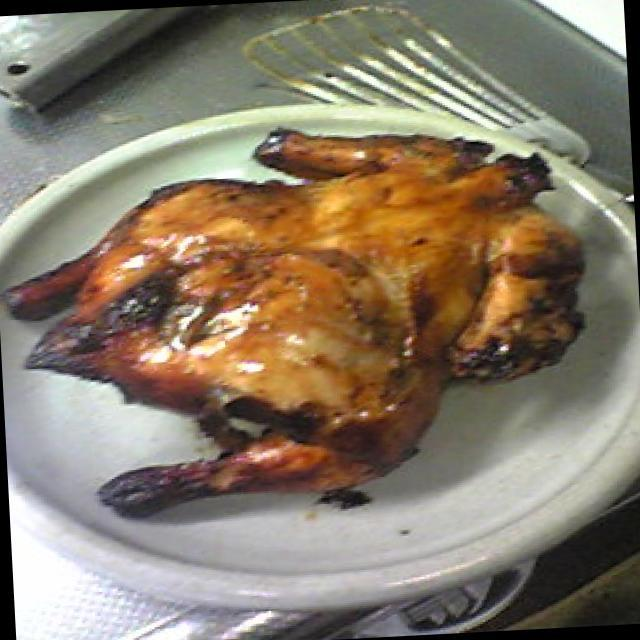Chicken: (0, 100, 613, 534)
